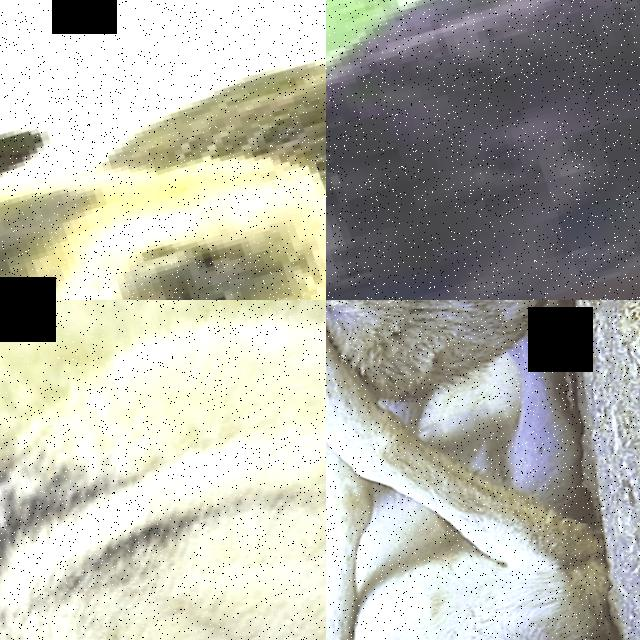dog: (0, 0, 326, 300), (326, 0, 640, 300), (326, 127, 640, 300)
wolf: (0, 300, 326, 640), (326, 300, 640, 640), (326, 300, 640, 527)
